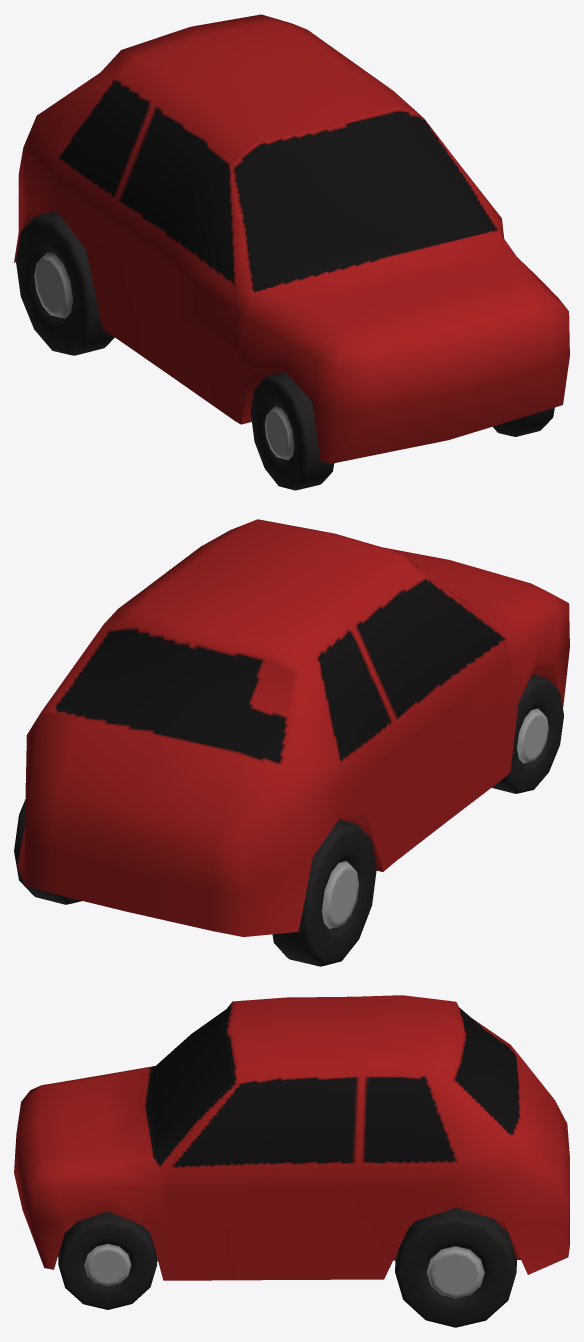
Rendered from Car_low.fbx.
3 renders of one model, top to bottom at view 1: azimuth 30°, elevation 25°; view 2: azimuth 150°, elevation 25°; view 3: azimuth 270°, elevation 25°, orthographic. The views are drawn at different scales.
Parts seen in each view (by area): view 1: Cube; view 2: Cube; view 3: Cube.
Boxes of the visible parts, x1,y1,x2,y2 form: Cube: (14,14,569,490); Cube: (14,519,569,966); Cube: (14,995,569,1327).
Bounding box in the file's own units: 148 × 144 × 293.
Materials: 1 (1 with a texture image).
